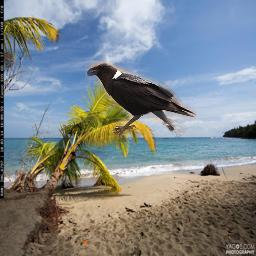Crow: (85, 61, 196, 138)
